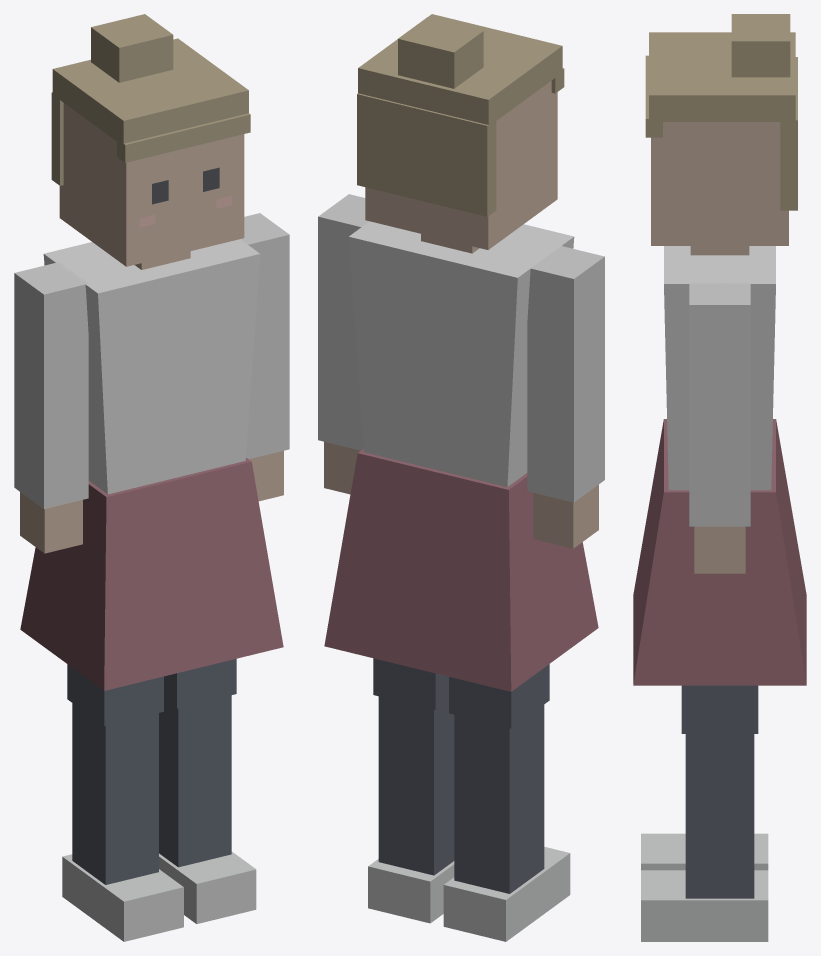
File: walker_11.glb
3 renders of one model, left to right at view 1: azimuth 30°, elevation 25°; view 2: azimuth 150°, elevation 25°; view 3: azimuth 270°, elevation 25°, orthographic. The views are drawn at different scales.
Parts seen in each view (by area): view 1: walker_11; view 2: walker_11; view 3: walker_11.
Part boxes in pixels (x1,y1,x2,y2): walker_11: (14, 14, 289, 941); walker_11: (318, 14, 604, 941); walker_11: (633, 14, 806, 941).
Bounding box in the file's own units: 0.5405 × 1.79 × 0.3196.
